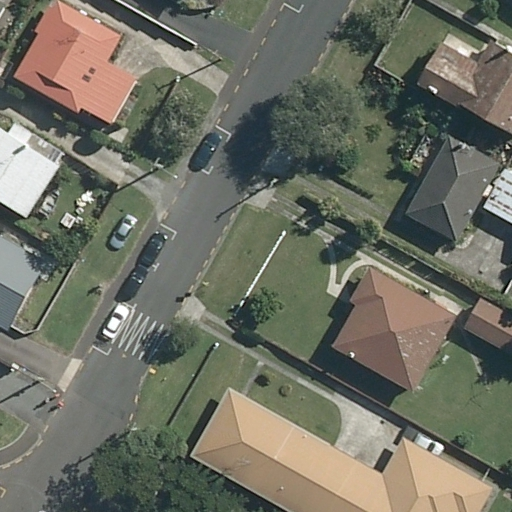DT: (204, 45, 225, 65)
